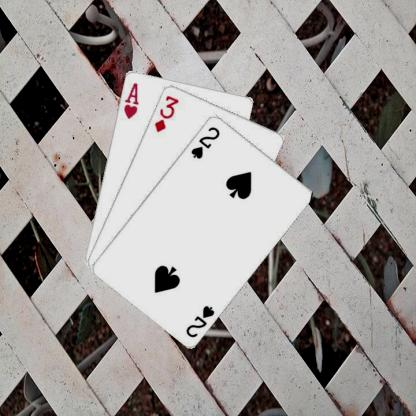2S: (188, 124, 222, 160), (183, 302, 216, 339)
3D: (152, 92, 180, 134)
AH: (121, 80, 140, 120)
